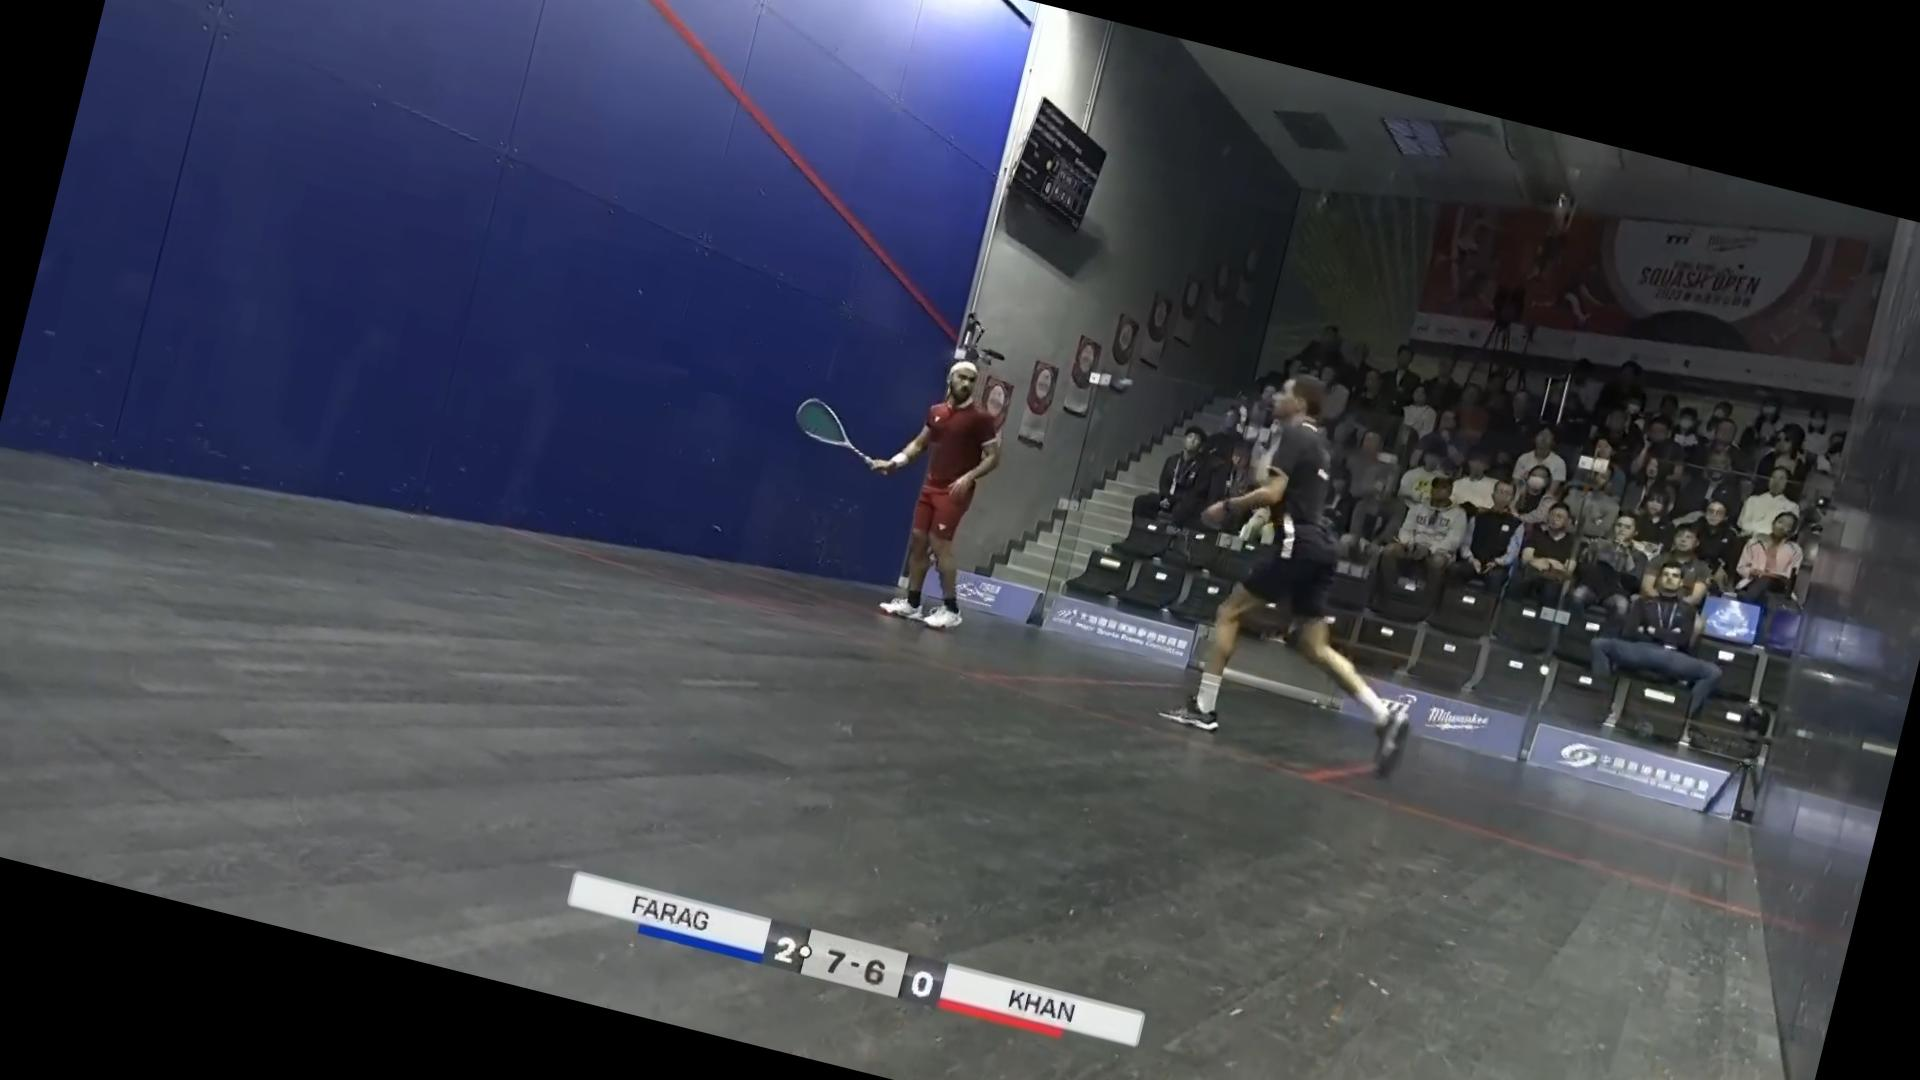Racket: (781, 382, 891, 473)
